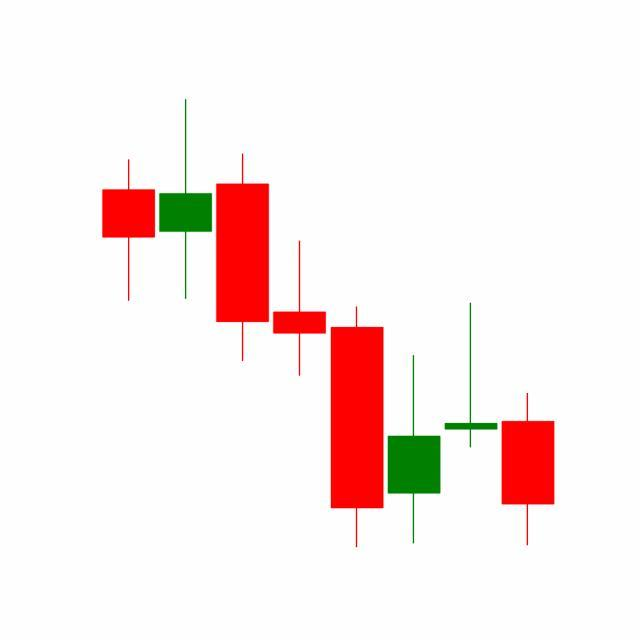Hikkake Pattern: (214, 149, 501, 549)
